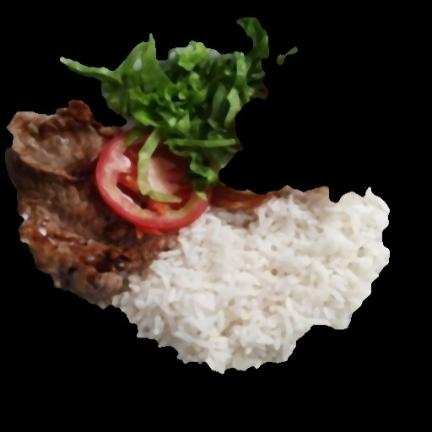meat: (3, 100, 177, 308)
rice: (111, 190, 390, 363)
salad: (61, 16, 269, 176)
tomato: (92, 129, 276, 232)
